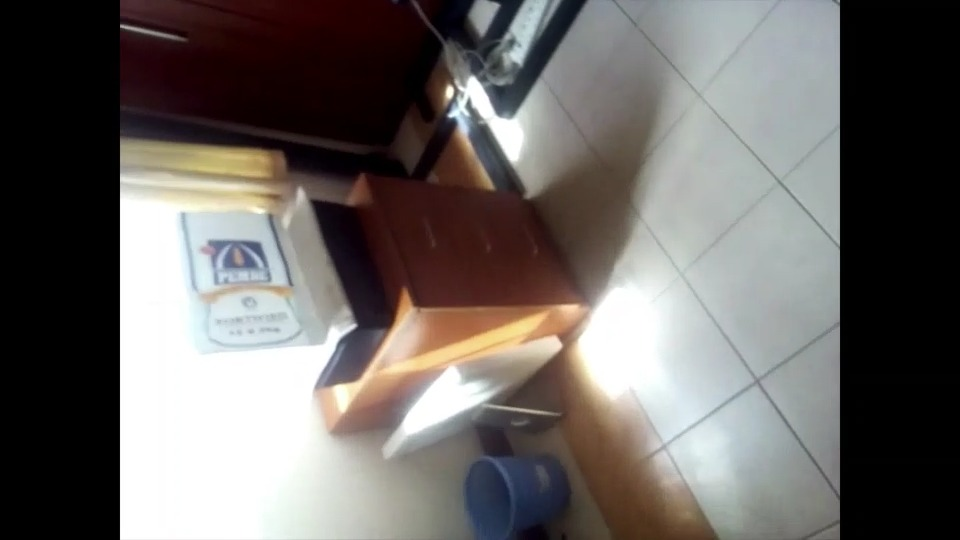wheat_flour_blue_label: (175, 210, 333, 402), (333, 402, 351, 540)
